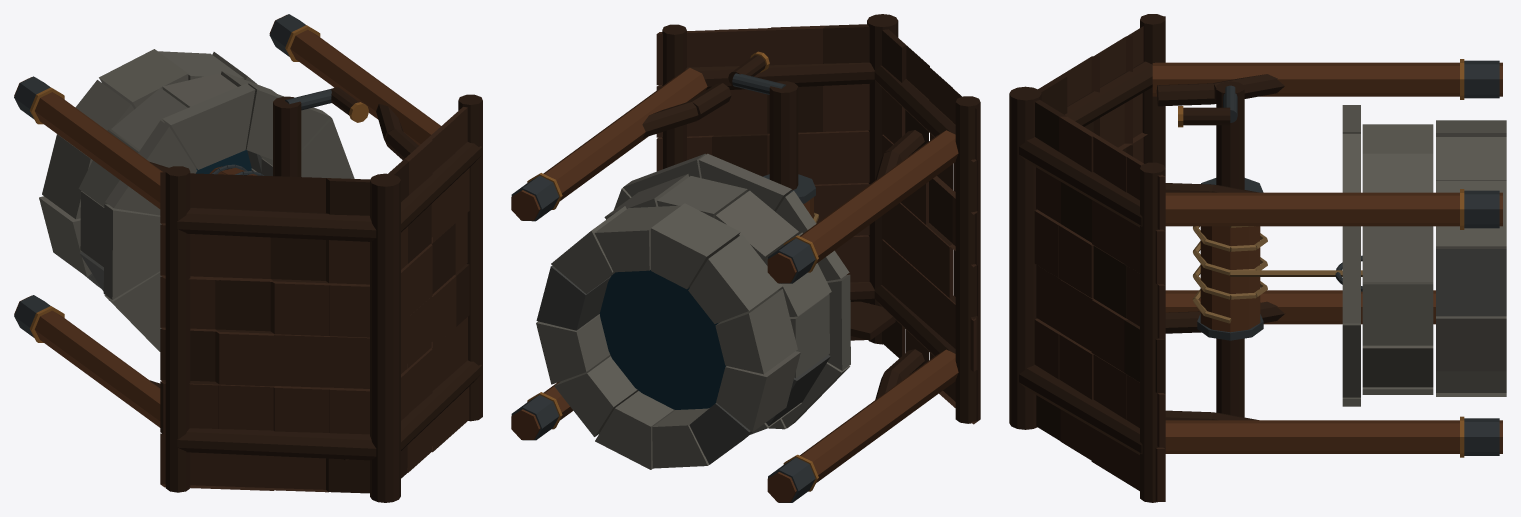
Rendered from SM_Velegard_Well_1348_LOD1.obj.
3 renders of one model, left to right at view 1: azimuth 30°, elevation 25°; view 2: azimuth 150°, elevation 25°; view 3: azimuth 270°, elevation 25°, orthographic. The views are drawn at different scales.
Visible parts, largest first — view 1: WoodDark, Shingle, Stone, Wood, Iron, Brass, StoneDark, Water; view 2: Stone, WoodDark, Shingle, Wood, Water, StoneDark, Iron, Brass; view 3: WoodDark, Wood, Stone, Shingle, Iron, StoneDark, Rope, Brass.
Boxes of the visible parts, bbox=[...] form: WoodDark: bbox=[149, 87, 482, 502]; Shingle: bbox=[160, 107, 469, 492]; Stone: bbox=[39, 49, 354, 351]; Wood: bbox=[14, 15, 440, 427]; Iron: bbox=[14, 14, 331, 337]; Brass: bbox=[29, 25, 368, 342]; StoneDark: bbox=[79, 150, 262, 291]; Water: bbox=[196, 150, 251, 173]; Stone: bbox=[536, 153, 850, 469]; WoodDark: bbox=[642, 14, 980, 423]; Shingle: bbox=[656, 25, 977, 424]; Wood: bbox=[511, 68, 958, 502]; Water: bbox=[599, 270, 726, 409]; StoneDark: bbox=[536, 265, 830, 464]; Iron: bbox=[511, 73, 815, 502]; Brass: bbox=[527, 51, 818, 491]; WoodDark: bbox=[1009, 14, 1284, 502]; Wood: bbox=[1152, 62, 1502, 453]; Stone: bbox=[1342, 105, 1506, 406]; Shingle: bbox=[1034, 16, 1165, 501]; Iron: bbox=[1197, 60, 1499, 455]; StoneDark: bbox=[1436, 249, 1506, 316]; Rope: bbox=[1193, 226, 1362, 323]; Brass: bbox=[1178, 59, 1464, 457].
Bounding box in the file's own units: 2.3 × 2.27 × 3.01.
